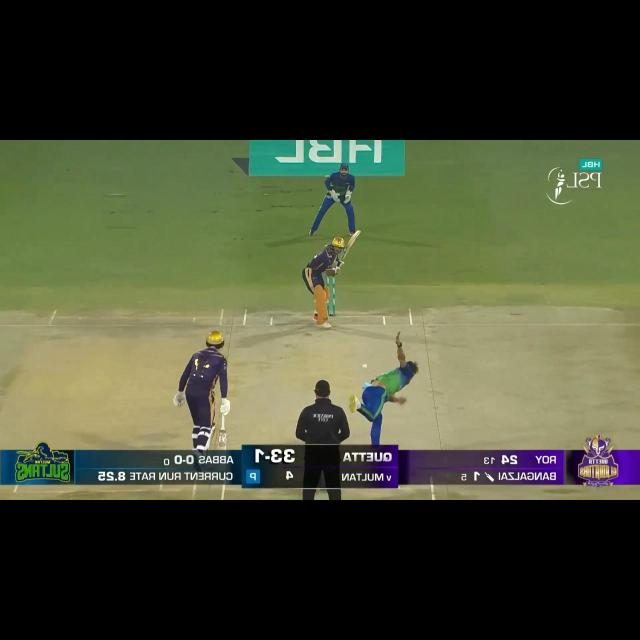bat: (340, 228, 362, 261), (211, 483, 224, 499), (217, 431, 227, 449)
toe: (353, 229, 362, 238)
